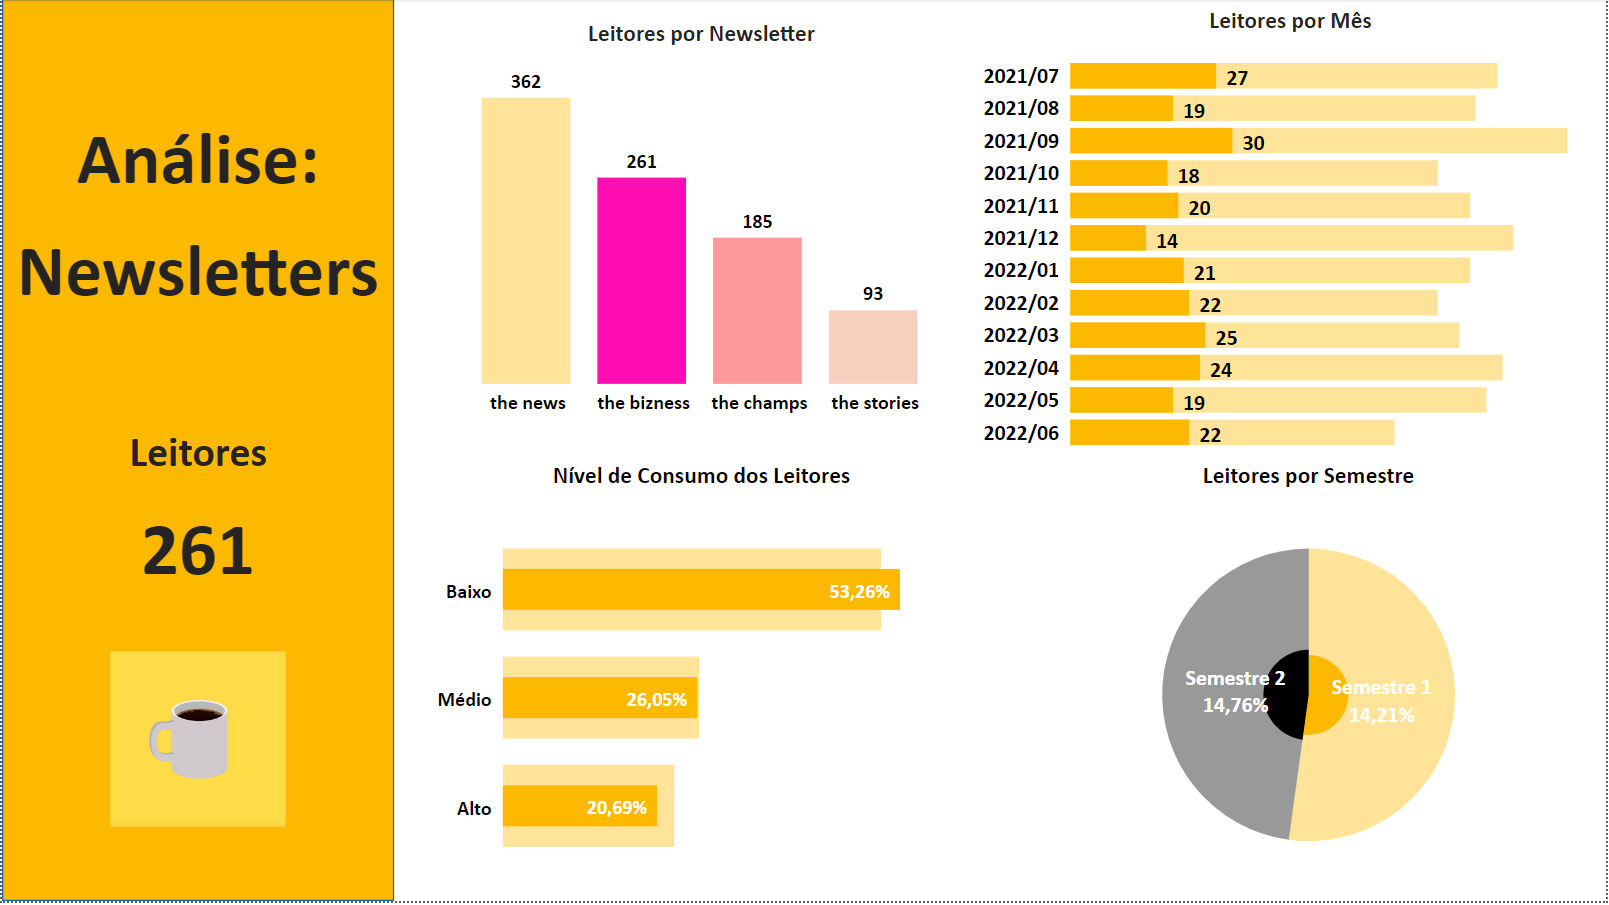

What the dashboard file says about the page in this screenshot:
{"tool":"powerbi","page":{"name":"Newsletters","canvas":[1280,720],"ordinal":1},"visuals":[{"type":"clusteredColumnChart","title":"Leitores por Newsletter","fields":{"Category":["dados_limpos.Newsletter"],"Y":["CountNonNull(dados_limpos.codigo)"]},"box":[340.6,15.2,435.2,325.4],"z":0},{"type":"clusteredBarChart","title":"Leitores por Mês","fields":{"Category":["dados_limpos.lastOpened.Variation.Hierarquia de datas.Mês"],"Y":["CountNonNull(dados_limpos.codigo)"]},"box":[811.3,5.1,469,367.6],"z":1000},{"type":"clusteredBarChart","title":"Nível de Consumo dos Leitores","fields":{"Y":["CountNonNull(dados_limpos.codigo)"],"Category":["dados_limpos.Consumo"]},"box":[340.6,367.6,435.2,352.4],"z":2000},{"type":"pieChart","title":"Leitores por Semestre","fields":{"Category":["dados_limpos.Semestre"],"Y":["CountNonNull(dados_limpos.codigo)"]},"box":[811.3,367.6,463.9,352.4],"z":3000},{"type":"shape","box":[0,0,312.7,720],"z":3500},{"type":"textbox","box":[0,86.3,313.1,206.1],"z":4000},{"type":"card","title":"Leitores","fields":{"Values":["CountNonNull(dados_limpos.codigo)"]},"box":[0,340.7,313.1,143.2],"z":4001},{"type":"image","box":[81.1,487.6,150.4,206.2],"z":4002}]}

Visuals, with their boxes in screenshot pixels (x1, y1, x2, y2), scaled from the page's 1280x720 canvas onto the 1609x905 screenshot:
"Leitores por Newsletter" clusteredColumnChart: 428/19/975/428
"Leitores por Mês" clusteredBarChart: 1020/6/1608/468
"Nível de Consumo dos Leitores" clusteredBarChart: 428/462/975/904
"Leitores por Semestre" pieChart: 1020/462/1603/904
shape: 0/0/393/904
textbox: 0/108/394/368
"Leitores" card: 0/428/394/608
image: 102/613/291/872
